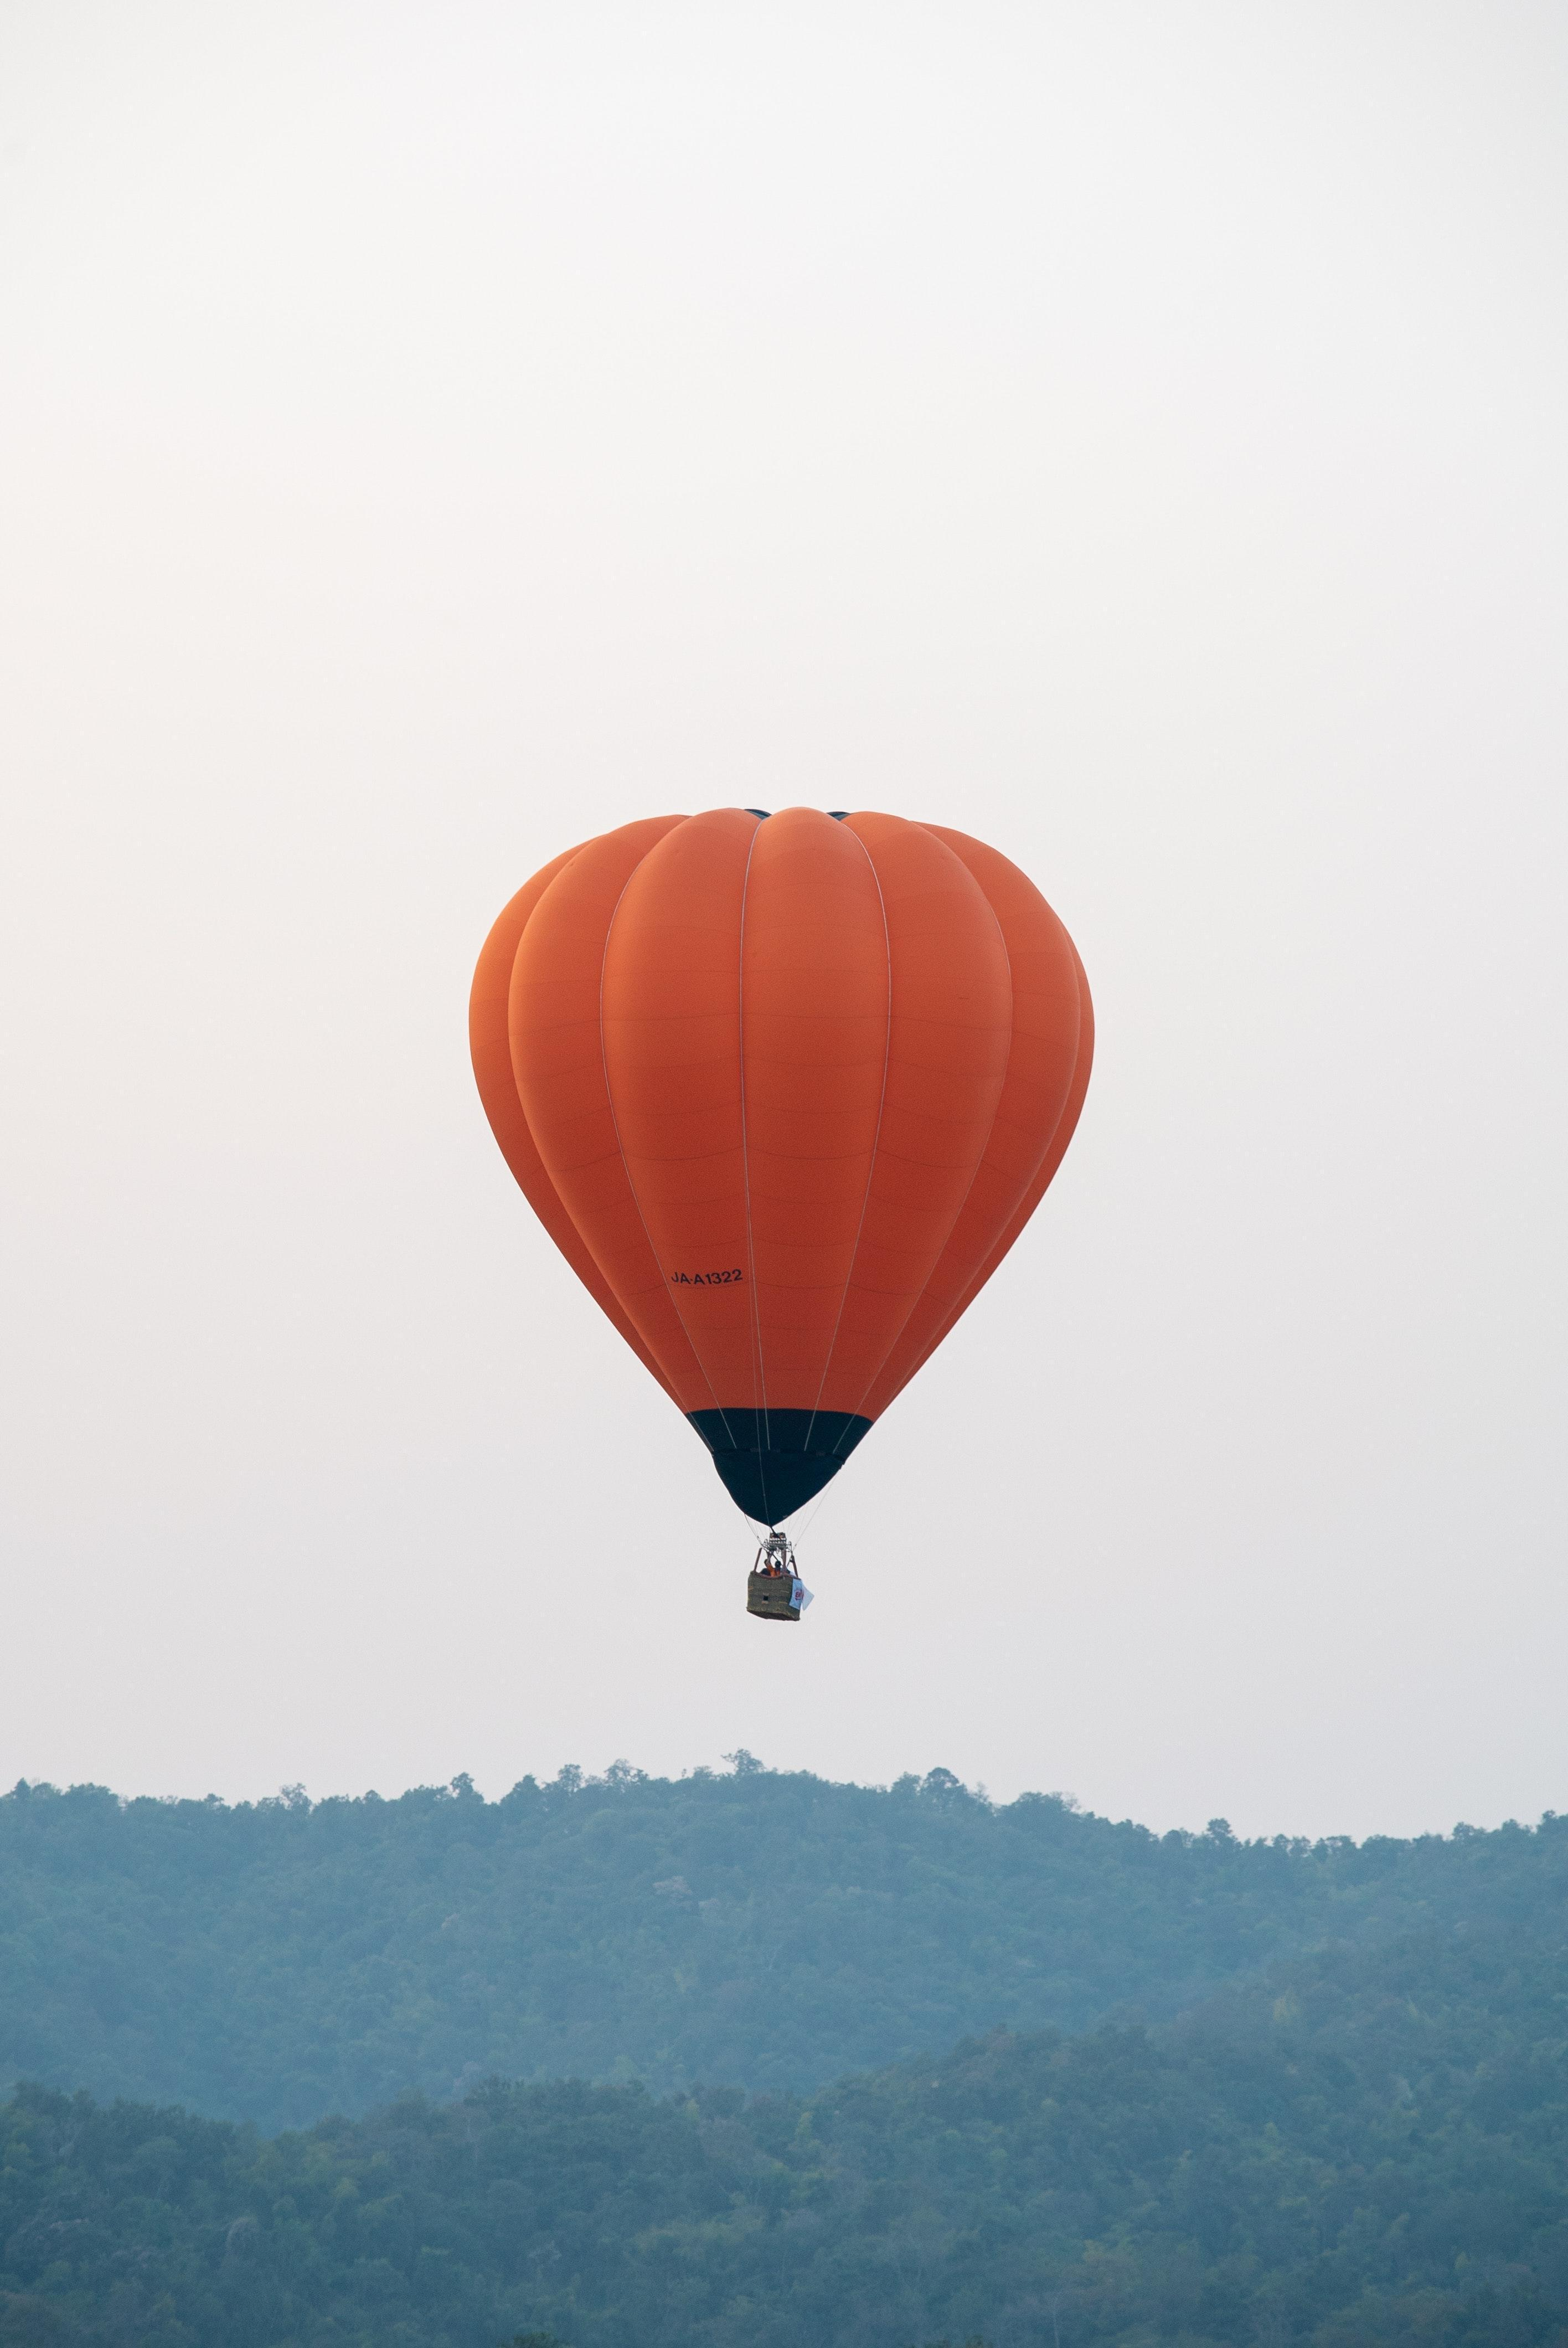hot air ballon: (465, 808, 1101, 1627)
